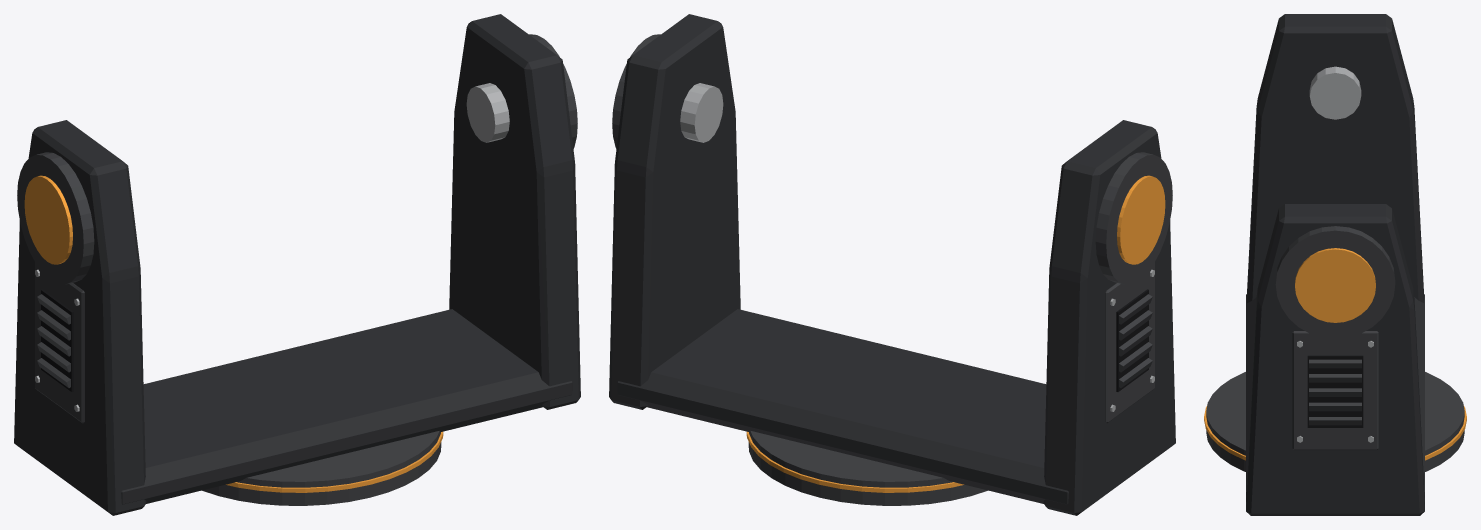
File: csc_lumora_w19_yoke.obj
3 views of the same model, side by side, from view 1: azimuth 30°, elevation 25°; view 2: azimuth 150°, elevation 25°; view 3: azimuth 270°, elevation 25° (orthographic). The views are drawn at different scales.
Parts seen in each view (by area): view 1: yoke_csc_2f3033, yoke_csc_3f4043, yoke_csc_f9a238, yoke_csc_adafb1, yoke_csc_161618; view 2: yoke_csc_2f3033, yoke_csc_3f4043, yoke_csc_f9a238, yoke_csc_adafb1, yoke_csc_161618; view 3: yoke_csc_2f3033, yoke_csc_3f4043, yoke_csc_f9a238, yoke_csc_adafb1, yoke_csc_161618.
Boxes of the visible parts, x1,y1,x2,y2 form: yoke_csc_2f3033: (14,14,580,515); yoke_csc_3f4043: (17,34,577,505); yoke_csc_f9a238: (24,175,443,492); yoke_csc_adafb1: (35,83,509,411); yoke_csc_161618: (41,289,73,391); yoke_csc_2f3033: (609,14,1175,515); yoke_csc_3f4043: (612,34,1172,505); yoke_csc_f9a238: (746,175,1165,492); yoke_csc_adafb1: (680,83,1154,411); yoke_csc_161618: (1116,289,1148,391); yoke_csc_2f3033: (1246,14,1424,515); yoke_csc_3f4043: (1206,226,1464,471); yoke_csc_f9a238: (1204,248,1466,460); yoke_csc_adafb1: (1297,66,1373,442); yoke_csc_161618: (1307,355,1363,427).
Size of the model in its own units: 1.09 by 0.7393 by 0.5547.
